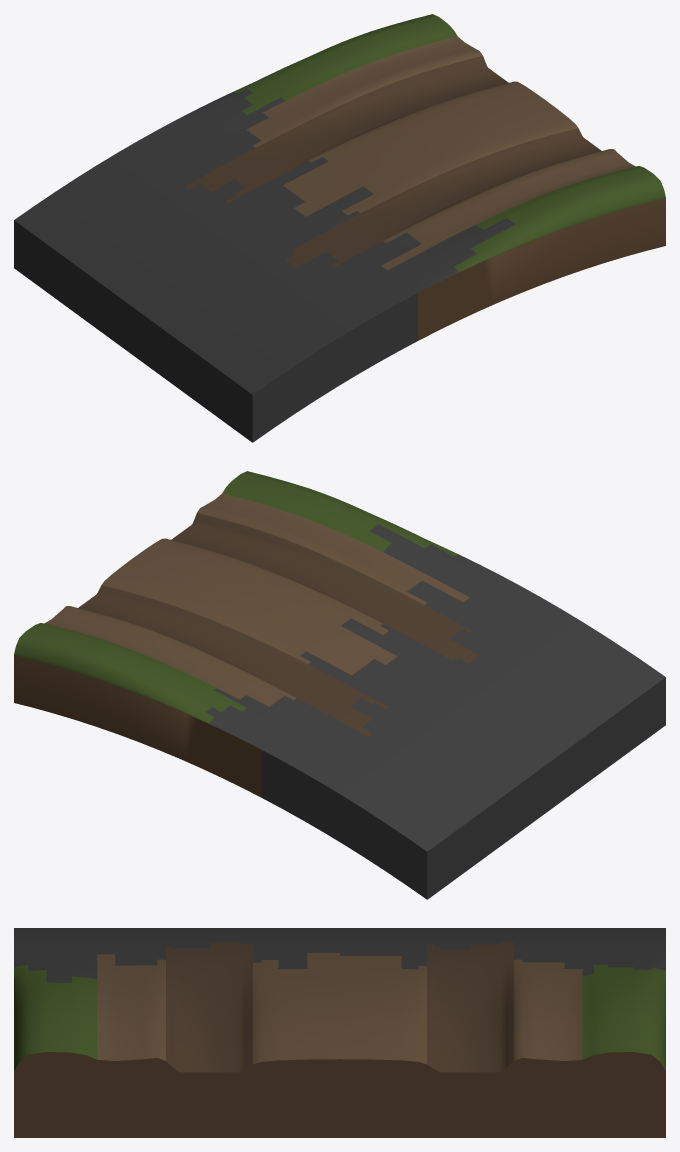
3 views of the same model, one above another, from view 1: azimuth 30°, elevation 25°; view 2: azimuth 150°, elevation 25°; view 3: azimuth 270°, elevation 25° (orthographic). The views are drawn at different scales.
Visible parts, largest first — view 1: e2u; view 2: e2u; view 3: e2u.
Boxes of the visible parts, box(x1,y1,x2,y2) form: e2u: box(14, 14, 665, 442); e2u: box(14, 471, 665, 899); e2u: box(14, 928, 665, 1137).
Bounding box in the file's own units: 9 × 3.31 × 9.
